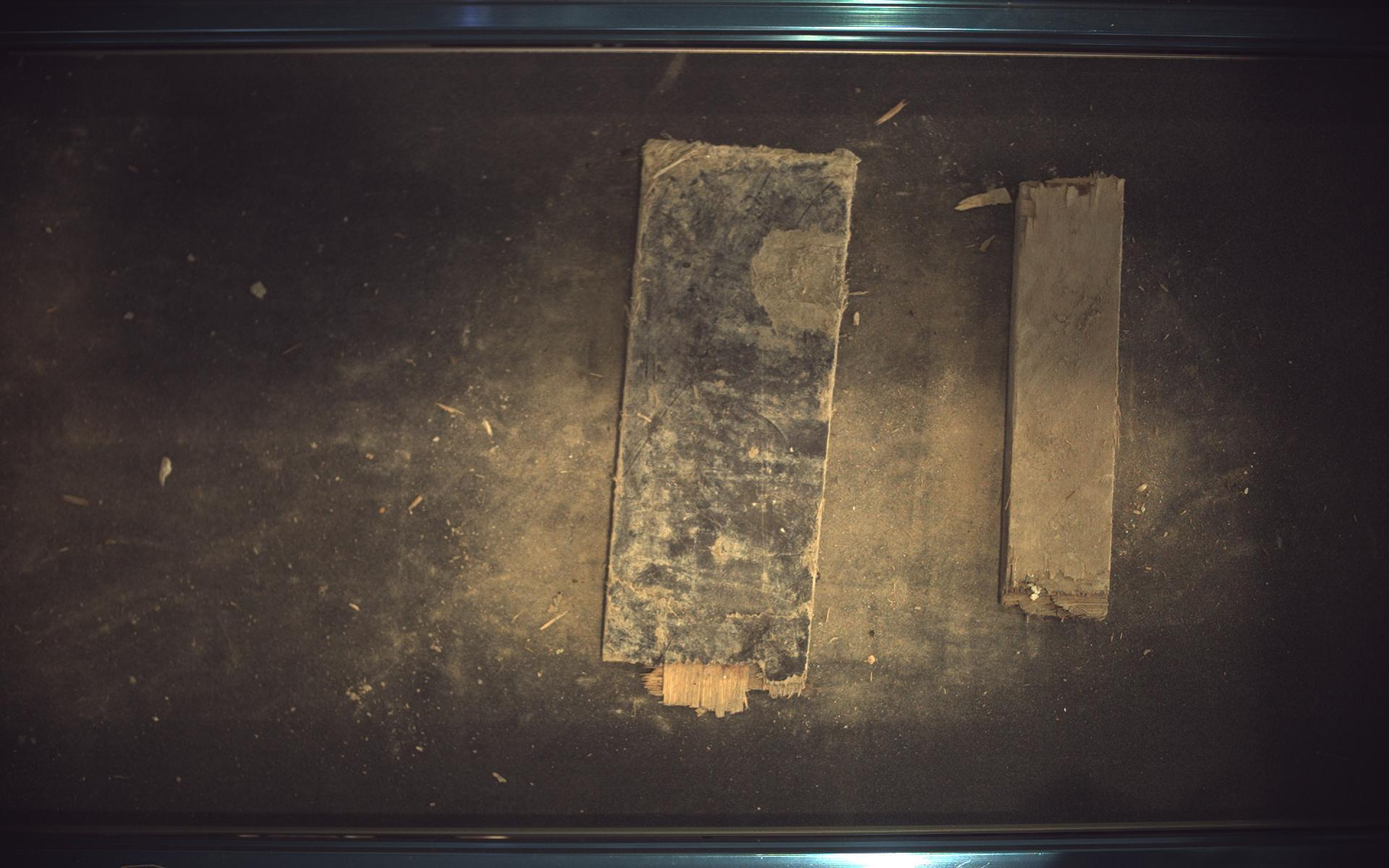wood: (603, 139, 860, 718), (1003, 174, 1127, 620)
